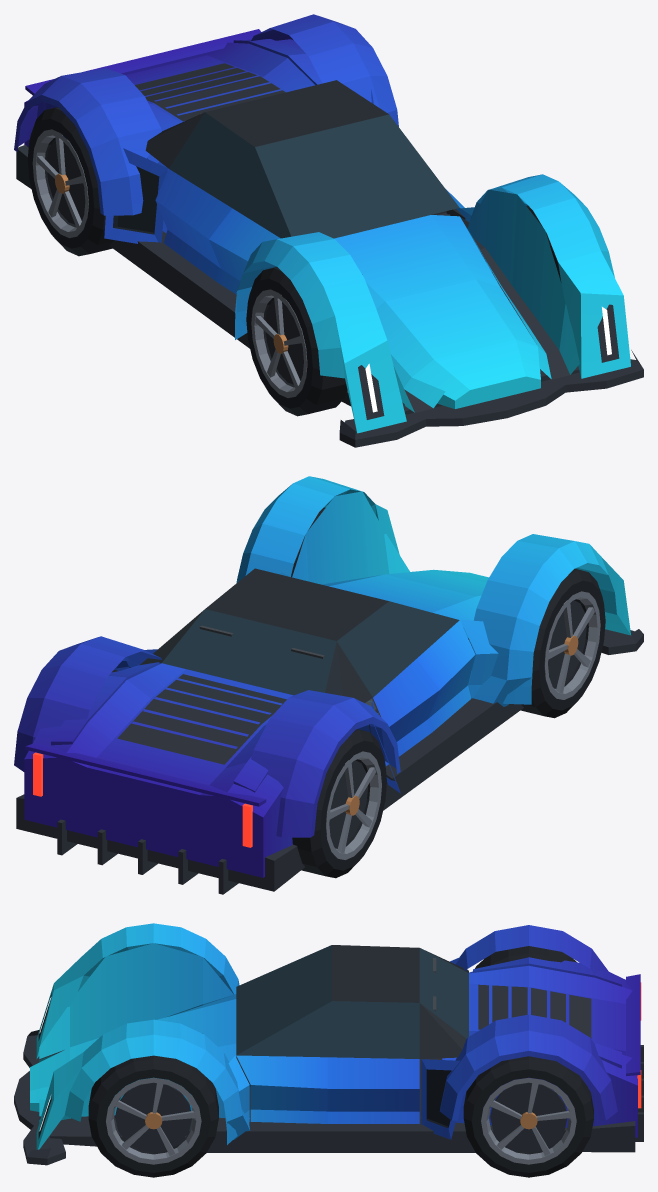
File: azure.glb
The picture shows the model from 3 angles, top to bottom: view 1: azimuth 30°, elevation 25°; view 2: azimuth 150°, elevation 25°; view 3: azimuth 270°, elevation 25°; orthographic projection. The views are drawn at different scales.
Visible parts, largest first — view 1: Central nose.001, Fixed windshield, Fender_Rear_L.001, Fender_Front_L.001, Hood channel outer wall R, Door_L.001, Door_window_L.001, Roof, Fender_Rear_R.001, Fender prow_R, Sculpted front splitter, Fender prow_L (+19 smaller); view 2: Rear deck.001, Fender_Rear_L.001, Fender_Front_L.001, Rear glass, Rear recessed vent, Door_L.001, Roof, Fender_Rear_R.001, Hood channel outer wall R, Door_window_L.001, Fender_Front_R.001, Sill_L.001 (+16 smaller); view 3: Door_R.001, Hood channel outer wall L, Fender_Rear_R.001, Door_window_R.001, Rear deck.001, Sill_R.001, Fender_Front_R.001, Wheel_Front_R.001, Wheel_Rear_R.001, Fixed windshield, Roof, Central nose.001 (+19 smaller).
Part boxes in pixels (x1=…): Central nose.001: x1=334, y1=215, x2=540, y2=408; Fixed windshield: x1=255, y1=114, x2=459, y2=238; Fender_Rear_L.001: x1=14, y1=68, x2=161, y2=215; Fender_Front_L.001: x1=235, y1=232, x2=375, y2=378; Hood channel outer wall R: x1=467, y1=189, x2=579, y2=374; Door_L.001: x1=155, y1=169, x2=280, y2=294; Door_window_L.001: x1=169, y1=112, x2=291, y2=238; Roof: x1=205, y1=80, x2=388, y2=146; Fender_Rear_R.001: x1=251, y1=14, x2=398, y2=126; Fender prow_R: x1=558, y1=251, x2=630, y2=378; Sculpted front splitter: x1=339, y1=359, x2=643, y2=447; Fender prow_L: x1=335, y1=306, x2=406, y2=433; Rear deck.001: x1=24, y1=663, x2=293, y2=877; Fender_Rear_L.001: x1=251, y1=690, x2=400, y2=837; Fender_Front_L.001: x1=469, y1=534, x2=616, y2=680; Rear glass: x1=162, y1=609, x2=336, y2=695; Rear recessed vent: x1=117, y1=674, x2=286, y2=764; Door_L.001: x1=373, y1=620, x2=475, y2=766; Roof: x1=205, y1=568, x2=388, y2=640; Fender_Rear_R.001: x1=14, y1=636, x2=161, y2=771; Hood channel outer wall R: x1=292, y1=491, x2=409, y2=584; Door_window_L.001: x1=337, y1=601, x2=459, y2=697; Fender_Front_R.001: x1=237, y1=476, x2=375, y2=582; Sill_L.001: x1=383, y1=698, x2=523, y2=810; Door_R.001: x1=236, y1=1055, x2=419, y2=1123; Hood channel outer wall L: x1=39, y1=943, x2=233, y2=1058; Fender_Rear_R.001: x1=439, y1=1014, x2=617, y2=1120; Door_window_R.001: x1=236, y1=1001, x2=419, y2=1058; Rear deck.001: x1=442, y1=958, x2=637, y2=1137; Sill_R.001: x1=186, y1=1119, x2=498, y2=1152; Fender_Front_R.001: x1=64, y1=1019, x2=242, y2=1121; Wheel_Front_R.001: x1=88, y1=1055, x2=218, y2=1177; Wheel_Rear_R.001: x1=463, y1=1056, x2=593, y2=1177; Fixed windshield: x1=236, y1=945, x2=331, y2=1054; Roof: x1=332, y1=945, x2=419, y2=1002; Central nose.001: x1=30, y1=994, x2=236, y2=1117.
Size of what is drawn, in the model's own units: 2.21 by 1.21 by 4.74.
